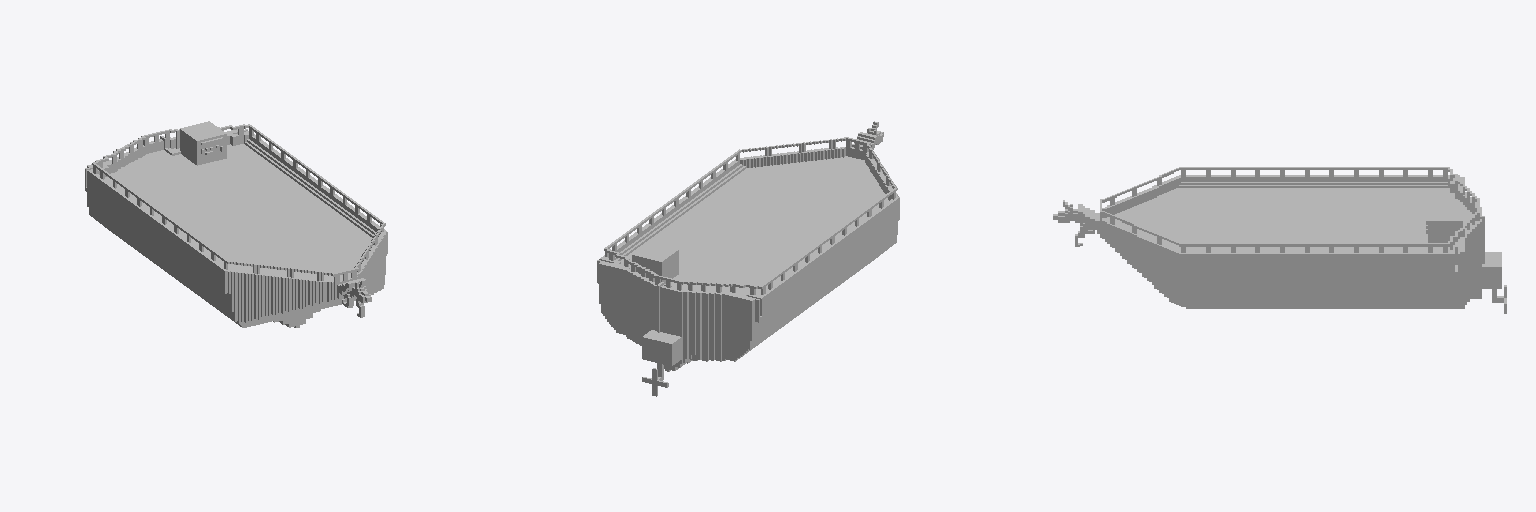
Rendered from Boat 3.0.obj.
3 renders of one model, left to right at view 1: azimuth 30°, elevation 25°; view 2: azimuth 150°, elevation 25°; view 3: azimuth 270°, elevation 25°, orthographic.
Parts seen in each view (by area): view 1: object 1; view 2: object 1; view 3: object 1.
Part boxes in pixels (bbox=[...]): object 1: bbox=[85, 121, 387, 327]; object 1: bbox=[597, 121, 899, 396]; object 1: bbox=[1053, 167, 1506, 313].
Bounding box in the file's own units: 7.6 × 5.1 × 18.4.